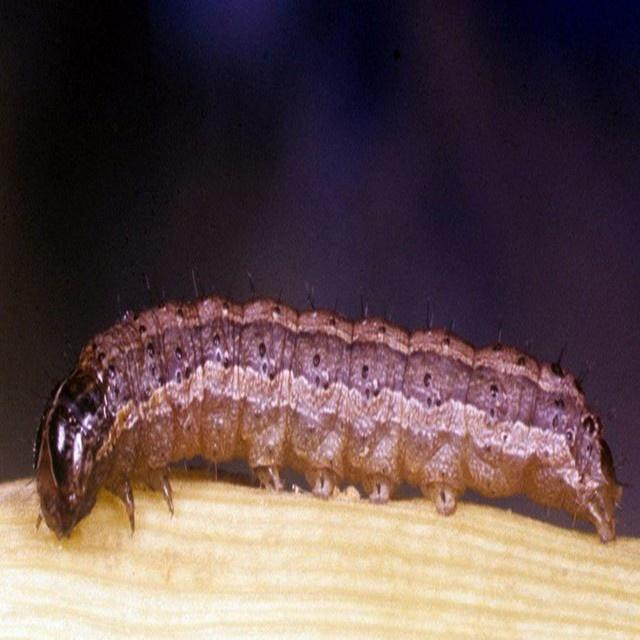yellow-stem-borer-larva: (20, 306, 631, 542)
